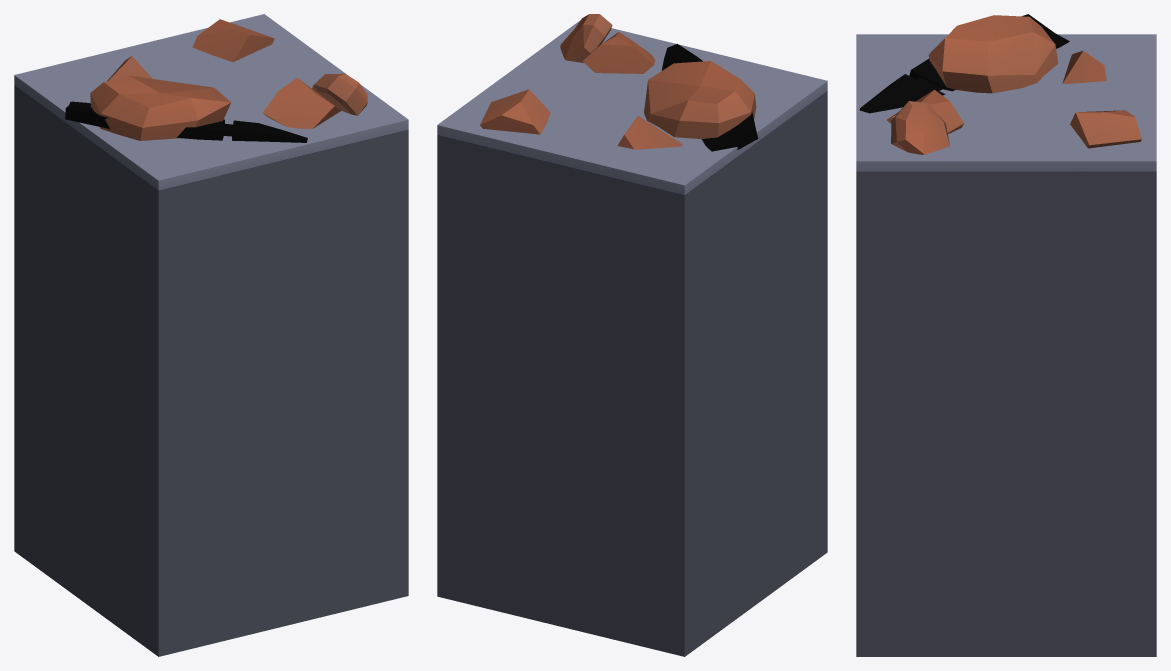
Rendered from debris_0.glb.
3 renders of one model, left to right at view 1: azimuth 30°, elevation 25°; view 2: azimuth 150°, elevation 25°; view 3: azimuth 270°, elevation 25°, orthographic. The views are drawn at different scales.
Parts seen in each view (by area): view 1: pavement; view 2: pavement; view 3: pavement.
Part boxes in pixels (x1,y1,x2,y2): pavement: [14, 14, 408, 656]; pavement: [437, 14, 827, 656]; pavement: [856, 14, 1156, 656].
Bounding box in the file's own units: 1.05 × 1.96 × 1.
Materials: 1 (1 with a texture image).
